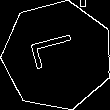L_E: (29, 34, 86, 77)
